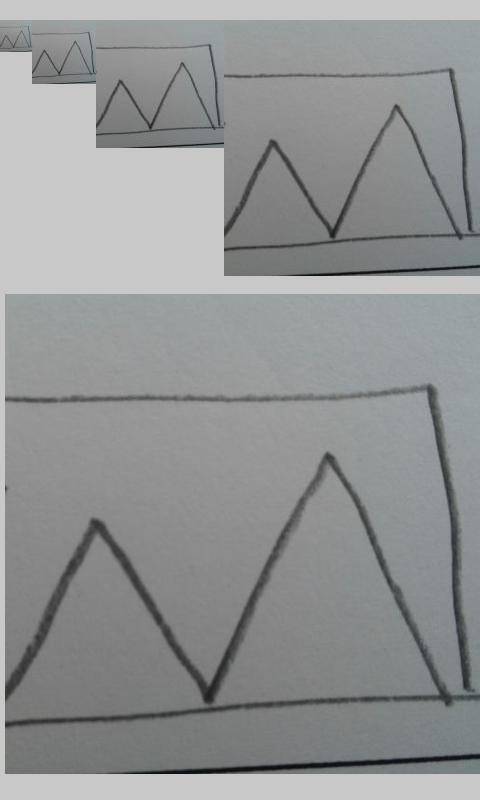image_view: (9, 386, 473, 736), (228, 68, 475, 250), (94, 44, 221, 135), (32, 32, 95, 78), (1, 25, 31, 49)
